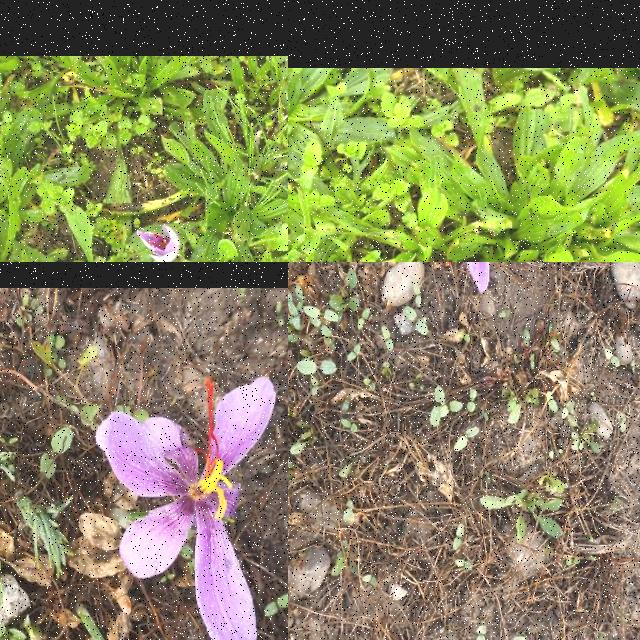flower: (96, 376, 278, 640), (443, 262, 533, 295), (136, 226, 180, 262)
